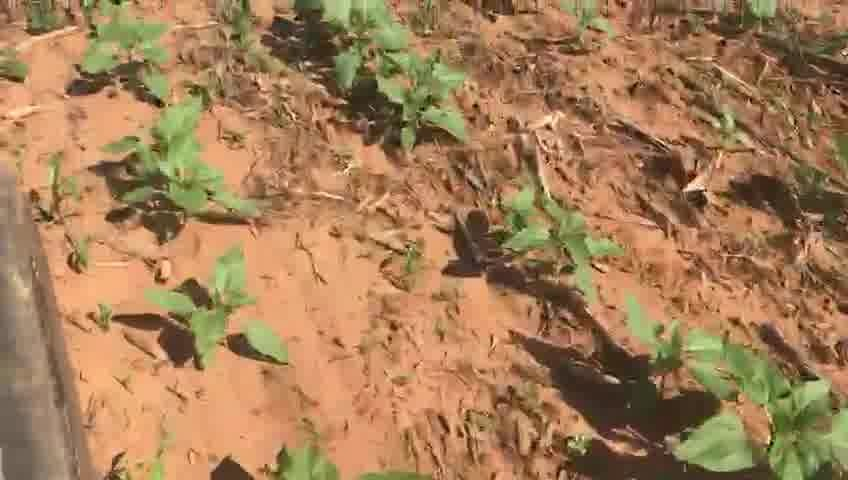sunflower: (101, 97, 267, 229), (152, 237, 295, 369), (703, 340, 841, 476), (503, 183, 619, 305), (618, 291, 735, 396), (383, 51, 469, 155), (319, 5, 419, 91), (74, 18, 181, 98)
